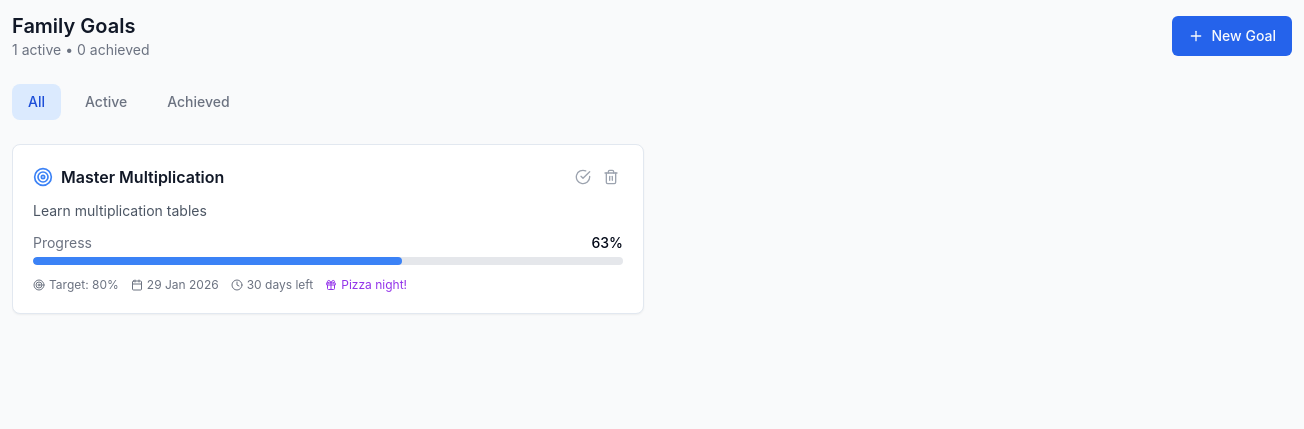
Test: GoalsTab › creating goals › requires student selection to create goal
The image size is (1304, 429).
Click the button "New Goal" at [1232, 36], box [1172,16,1292,56]
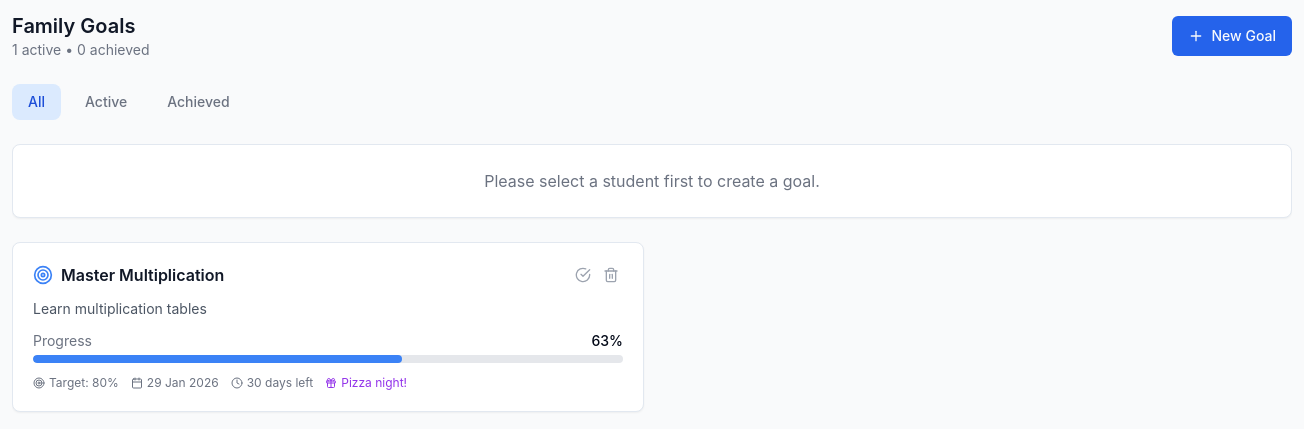
expect the text "Please select a student first to create a goal." is shown: met, box [484,171,820,191]
